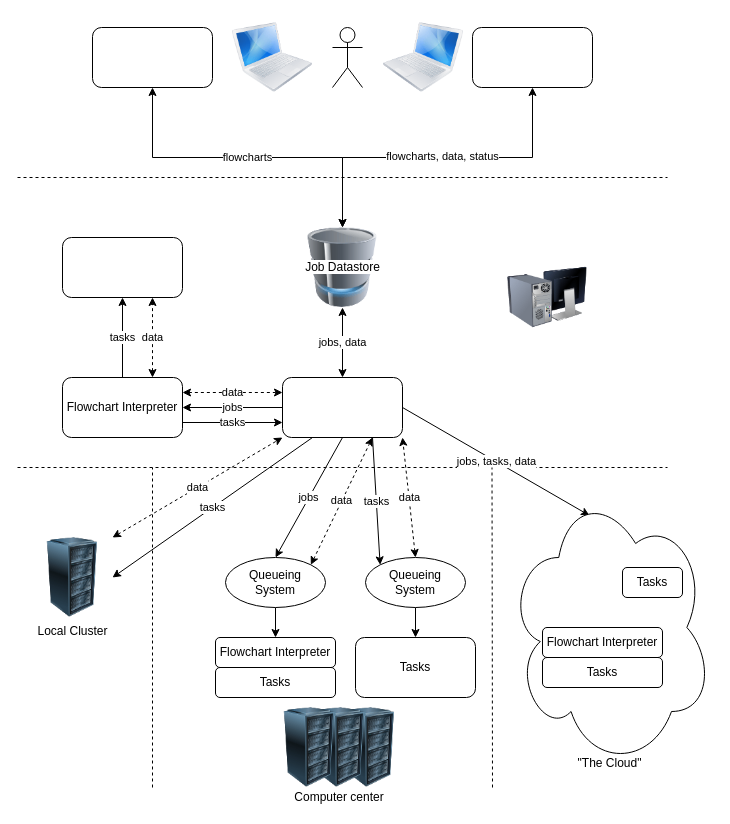
This 730x824 diagram has some shape labels left out. Here are the shapes that lost their labels. From the top down, the centre of each, then its label:
At (152,57): "Flowchart Editor".
At (347,57): "User".
At (532,57): "Dashboard".
At (122,267): "Local Tasks".
At (547,297): "Local Server".
At (342,407): "Job Manager".
